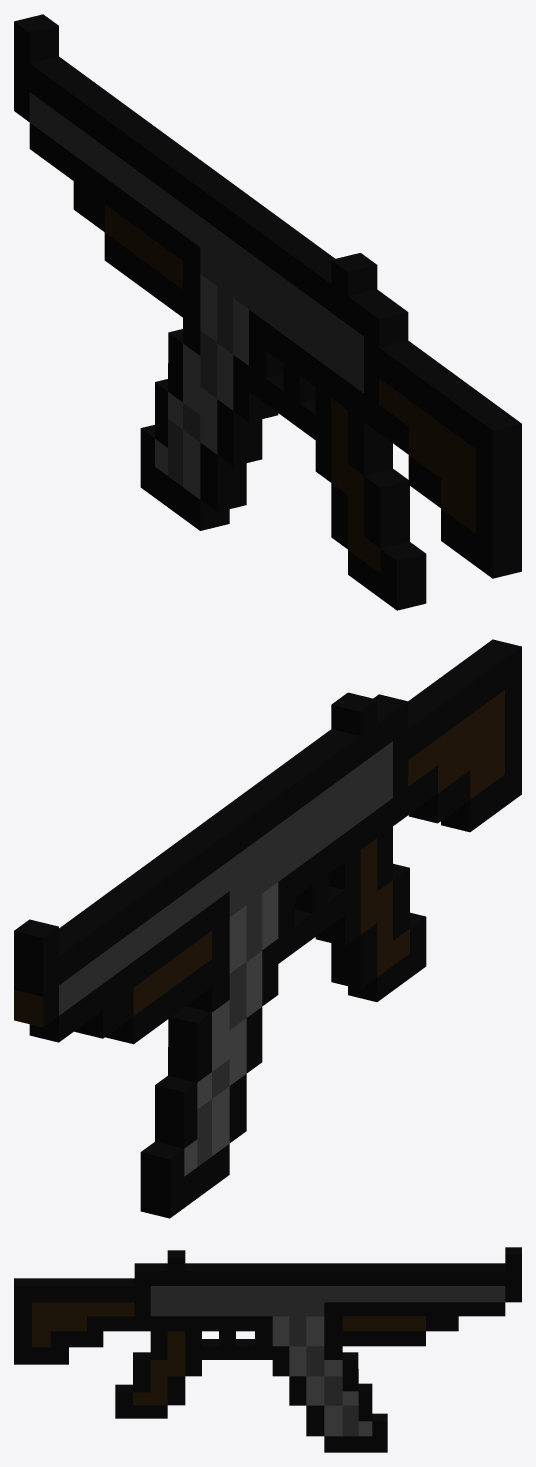
Rendered from Rifle model4.fbx.
3 views of the same model, one above another, from view 1: azimuth 30°, elevation 25°; view 2: azimuth 150°, elevation 25°; view 3: azimuth 270°, elevation 25° (orthographic). The views are drawn at different scales.
Visible parts, largest first — view 1: Cube; view 2: Cube; view 3: Cube.
Boxes of the visible parts, x1,y1,x2,y2 form: Cube: [14, 14, 521, 610]; Cube: [14, 639, 521, 1218]; Cube: [14, 1247, 521, 1452].
Bounding box in the file's own units: 200 × 2440 × 5671.
